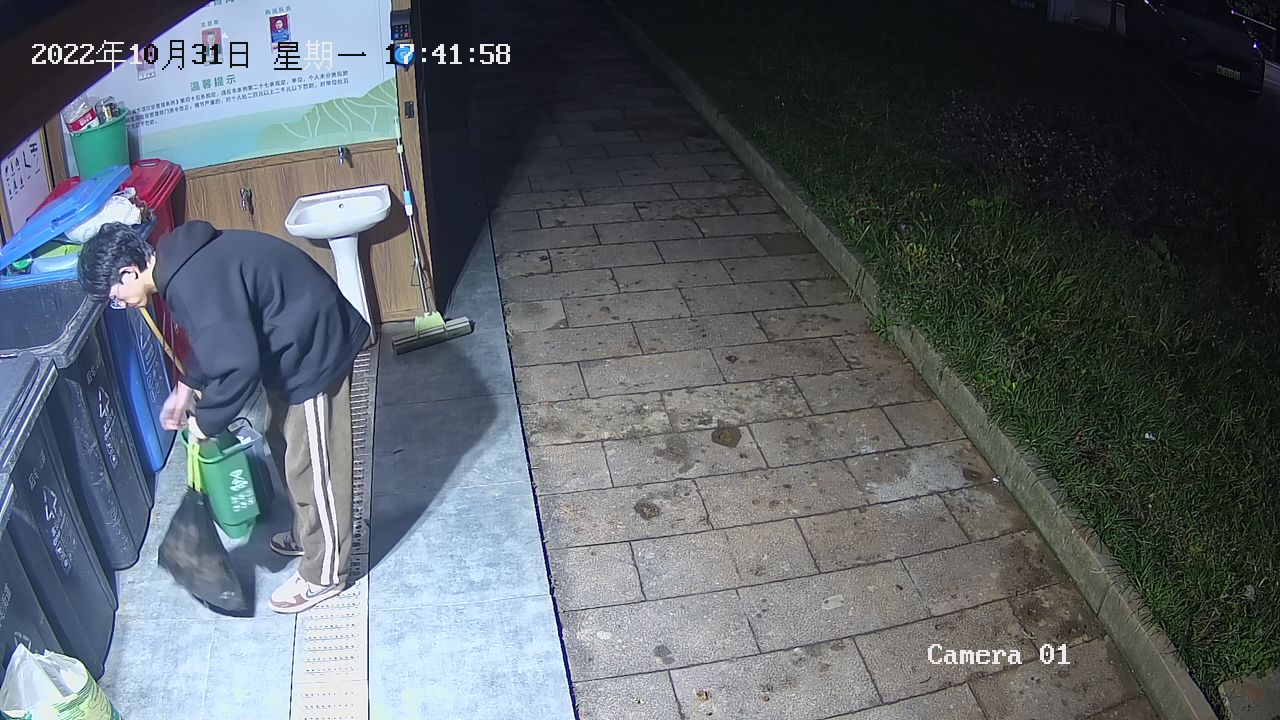garbage-bag: (153, 430, 249, 615)
person: (75, 219, 373, 616)
